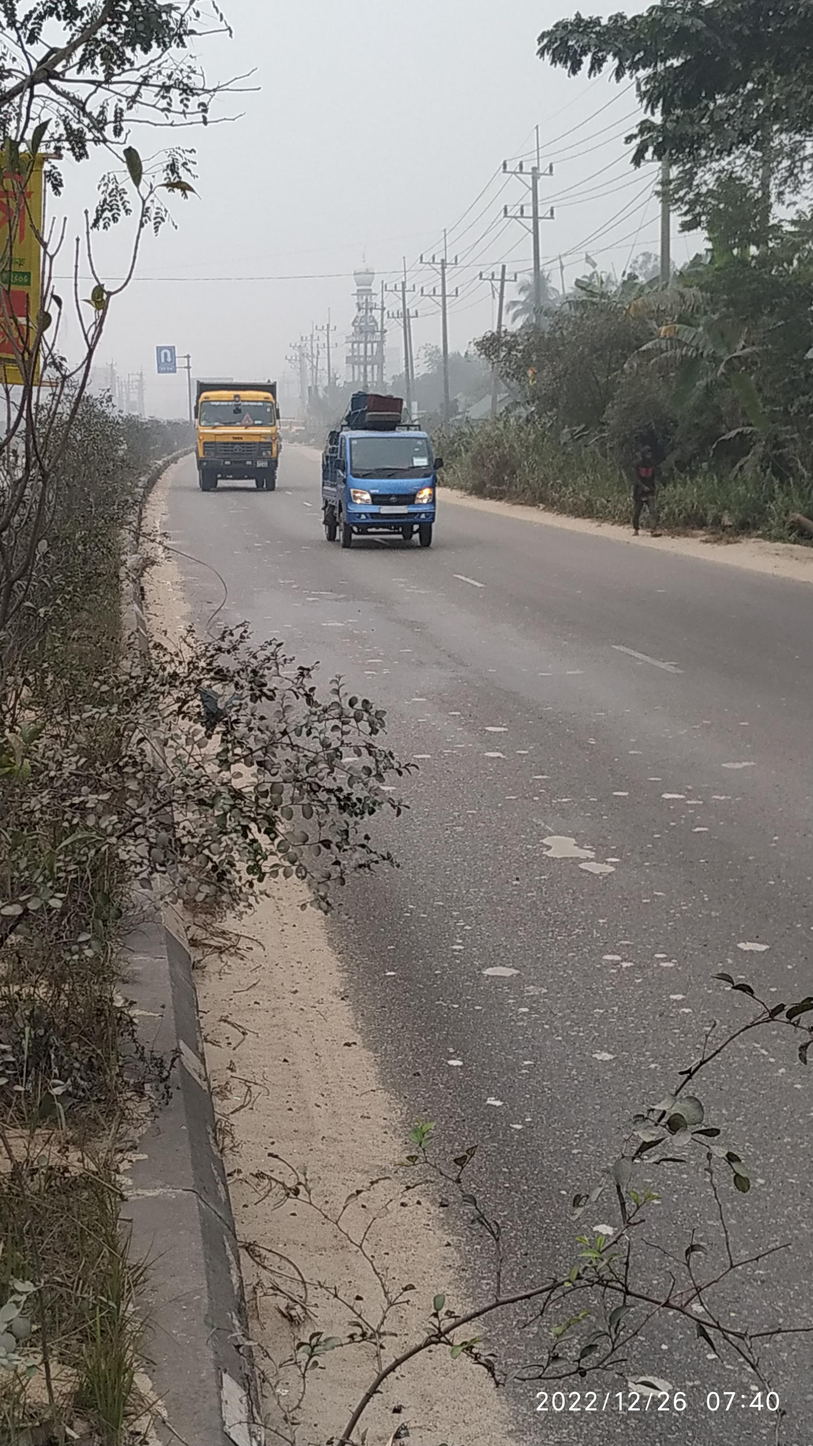Truck: (307, 385, 466, 572), (182, 364, 298, 510)
